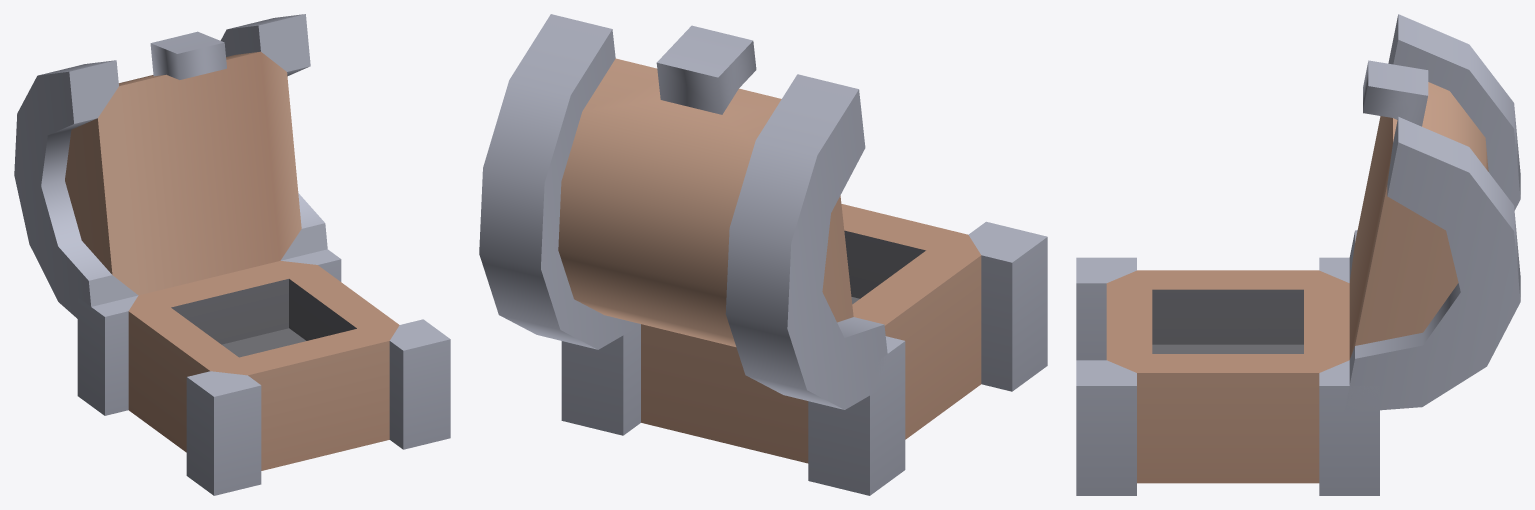
File: chest_open.glb
3 views of the same model, side by side, from view 1: azimuth 30°, elevation 25°; view 2: azimuth 150°, elevation 25°; view 3: azimuth 270°, elevation 25° (orthographic). The views are drawn at different scales.
Visible parts, largest first — view 1: chest_open; view 2: chest_open; view 3: chest_open.
Boxes of the visible parts, x1=… form: chest_open: x1=14, y1=14, x2=450, y2=495; chest_open: x1=479, y1=14, x2=1047, y2=495; chest_open: x1=1076, y1=14, x2=1520, y2=495.
Bounding box in the file's own units: 34.17 × 44.54 × 50.
